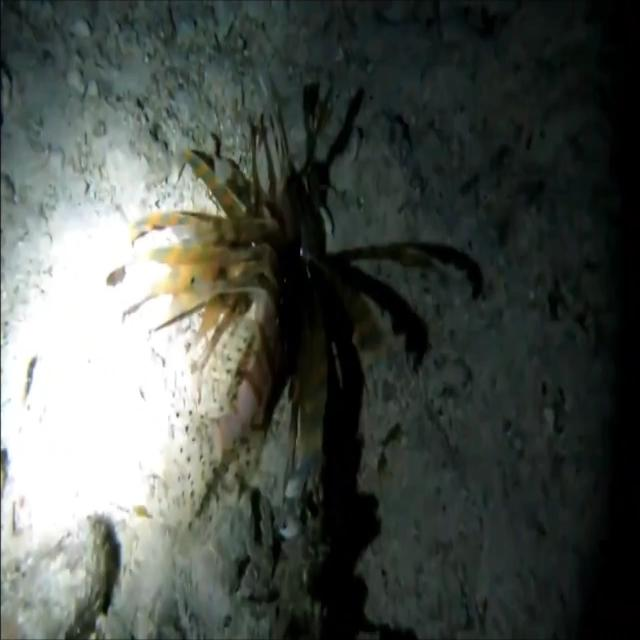Lionfish -Endangered- -Poisonous-: (141, 96, 431, 496)
